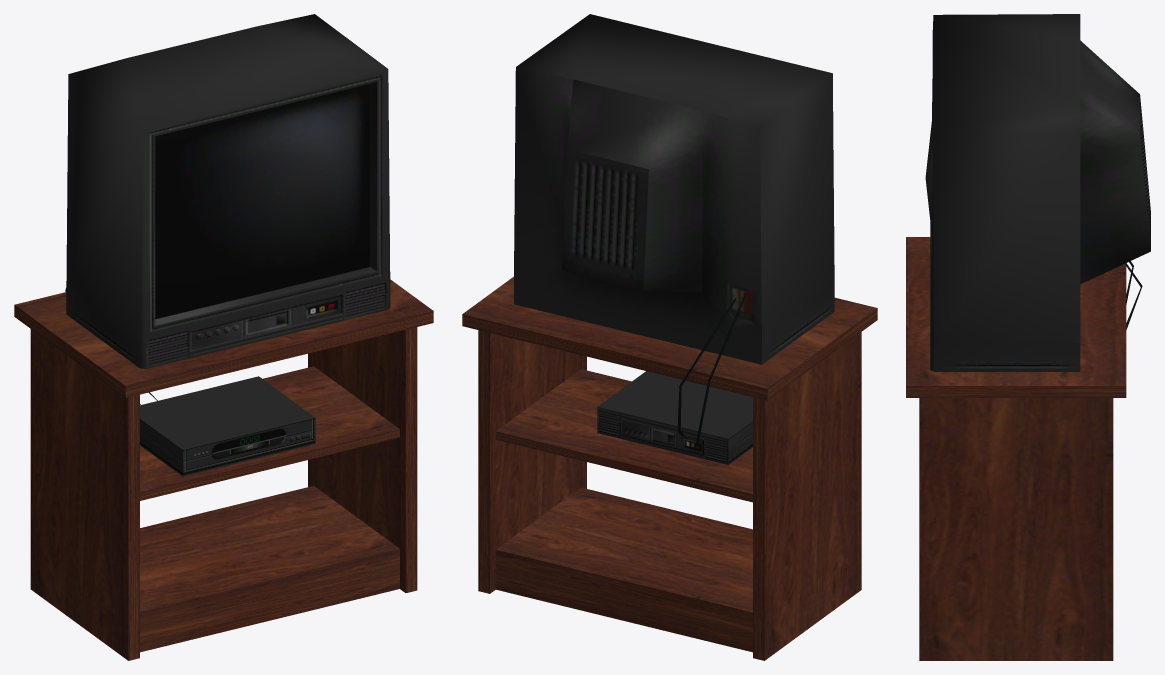
File: tv_27inch.fbx
3 views of the same model, side by side, from view 1: azimuth 30°, elevation 25°; view 2: azimuth 150°, elevation 25°; view 3: azimuth 270°, elevation 25° (orthographic).
Visible parts, largest first — view 1: mesh_0; view 2: mesh_0; view 3: mesh_0.
Boxes of the visible parts, left/top/right/bottom form: mesh_0: left=14, top=14, right=433, bottom=660; mesh_0: left=462, top=14, right=877, bottom=660; mesh_0: left=906, top=14, right=1150, bottom=660.
Size of the model in its own units: 80 by 130 by 55.57.
1 material, 1 textured.
